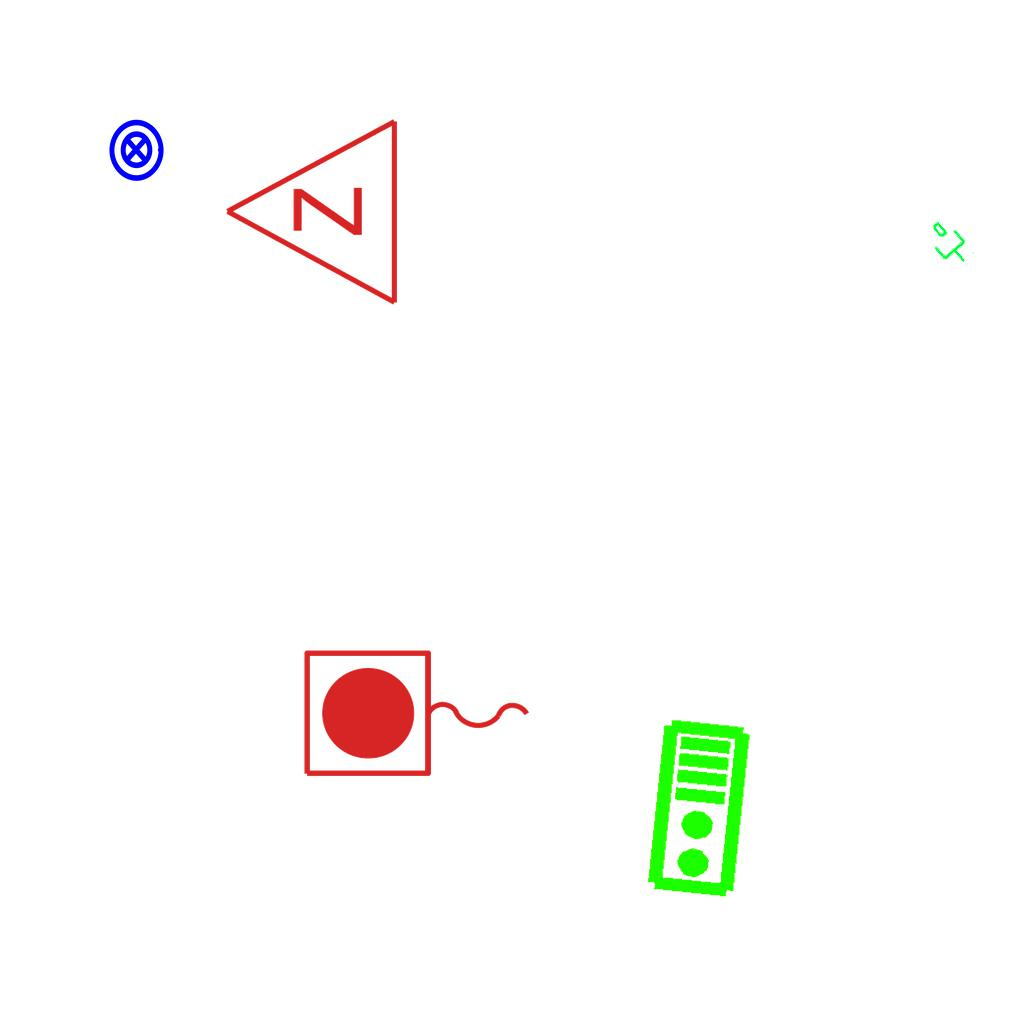Datenanschluss_einfach: (918, 213, 978, 275)
Gegensprechanlage_mit_Video: (644, 716, 757, 902)
Taster_beleuchtet: (103, 117, 169, 183)
Zimmersignalleuchte: (212, 116, 412, 312)
Zugtaster: (296, 643, 540, 787)
